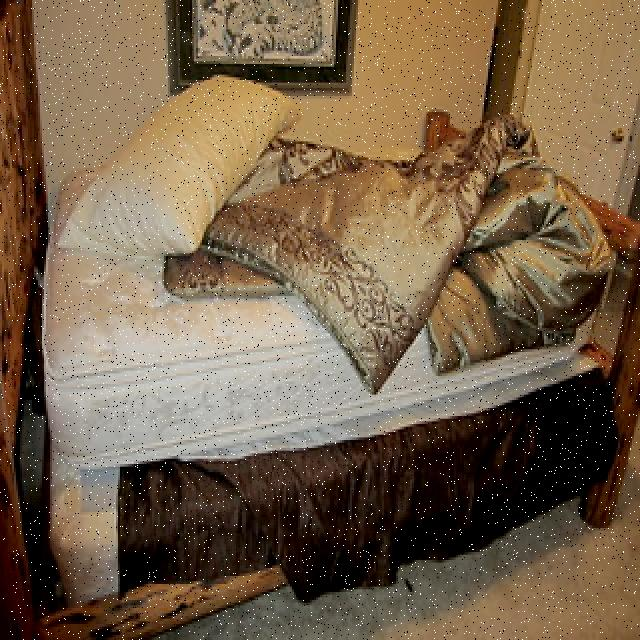bed: (46, 76, 614, 607)
